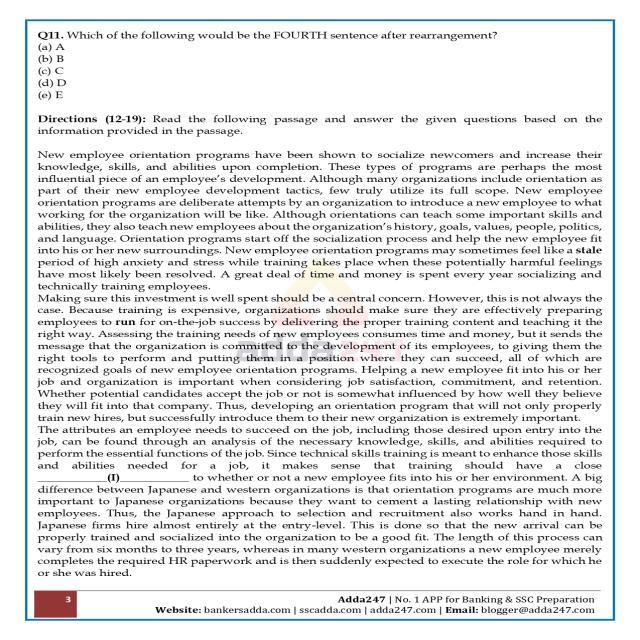Answer_Block: (28, 42, 616, 106)
Question_Answer_Block: (28, 26, 616, 104)
Question_Block: (24, 30, 617, 42)
Question_Paper_Area: (26, 21, 612, 591)
